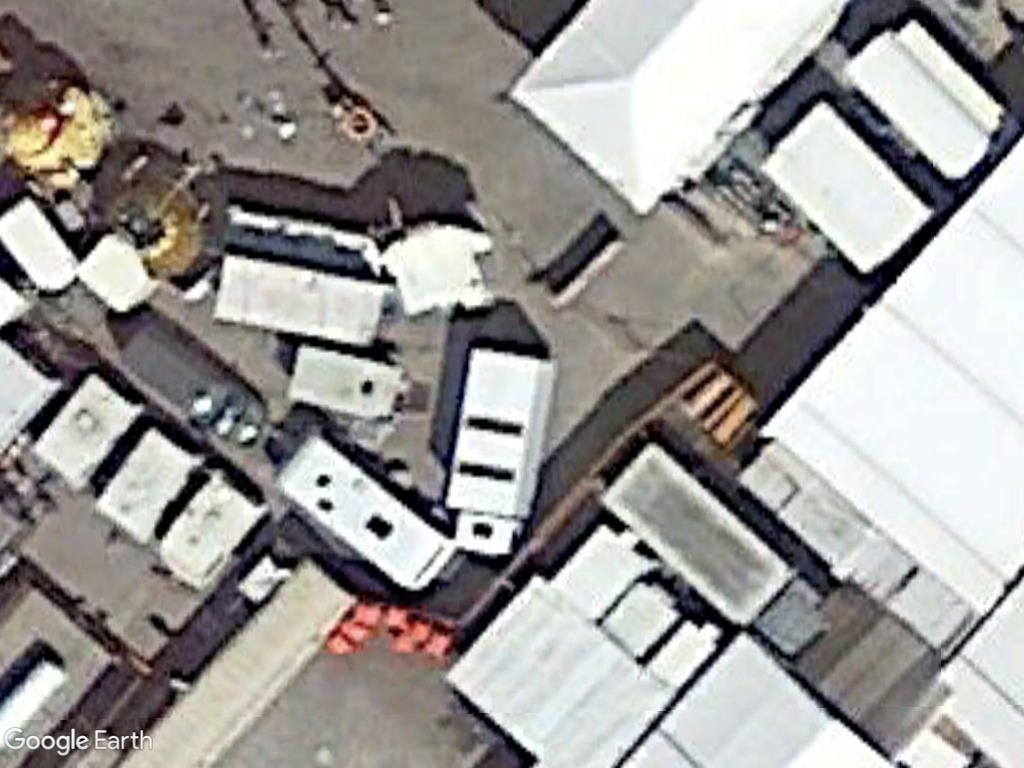longvehicle: (274, 425, 454, 597)
truck: (607, 436, 833, 671), (435, 341, 561, 558)
